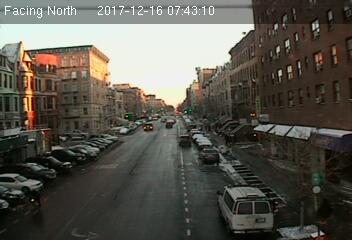bicycle: (25, 186, 43, 218)
car: (200, 147, 219, 163), (179, 135, 191, 146)
police: (215, 180, 278, 239)
